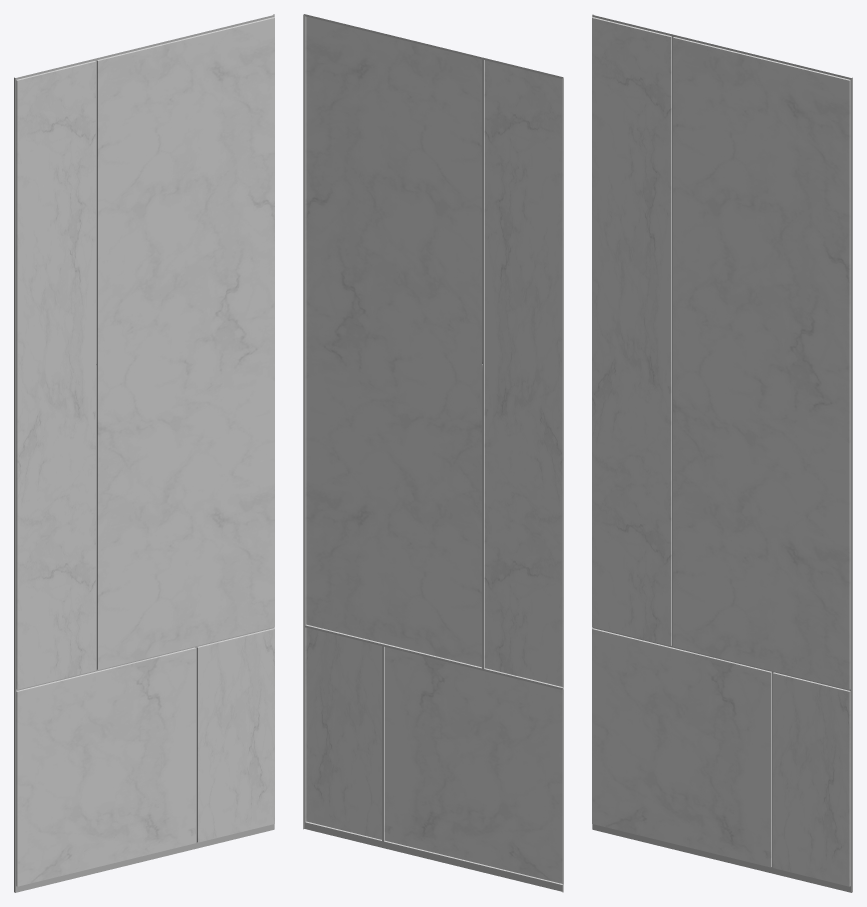
3 views of the same model, side by side, from view 1: azimuth 30°, elevation 25°; view 2: azimuth 150°, elevation 25°; view 3: azimuth 330°, elevation 25° (orthographic).
Parts seen in each view (by area): view 1: M_W_005_a_4x12; view 2: M_W_005_a_4x12; view 3: M_W_005_a_4x12.
Boxes of the visible parts, <box> form: M_W_005_a_4x12: <box>14,14,274,892</box>; M_W_005_a_4x12: <box>303,14,563,892</box>; M_W_005_a_4x12: <box>592,14,852,892</box>.
Size of the model in its own units: 4 by 0.06 by 12.
